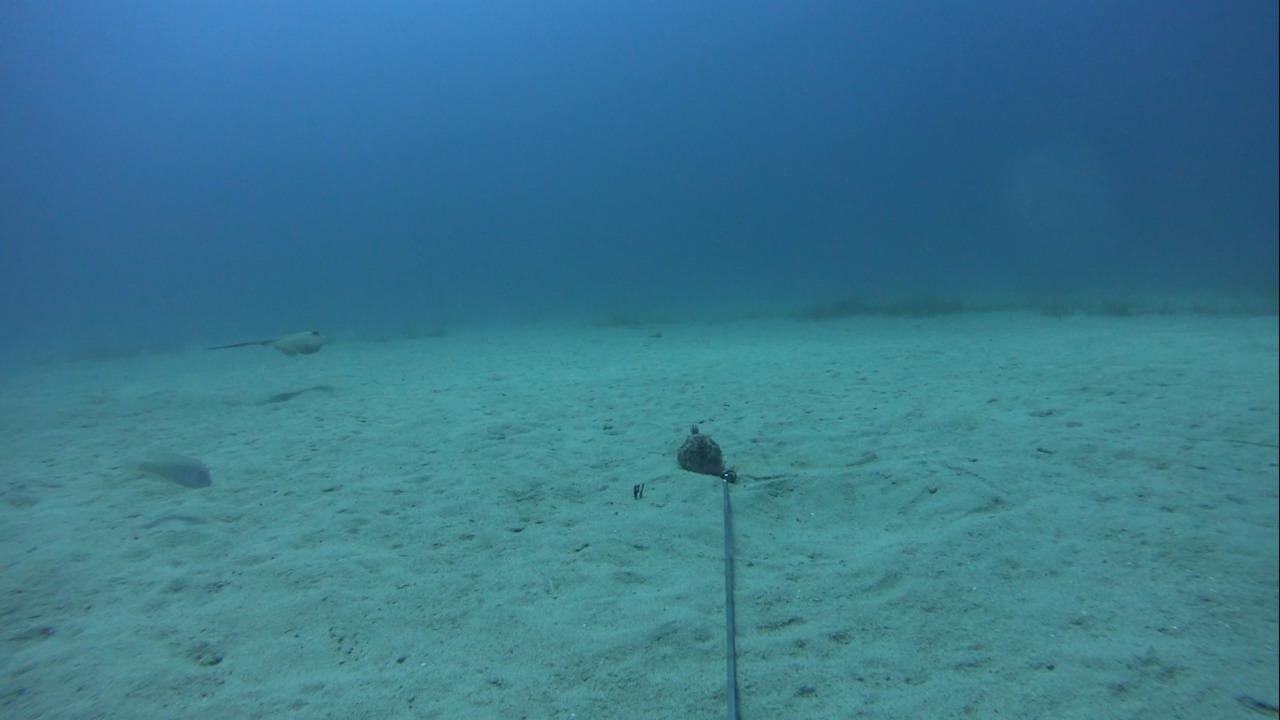myliobatis: (187, 324, 331, 367)
raor: (113, 451, 216, 494)
